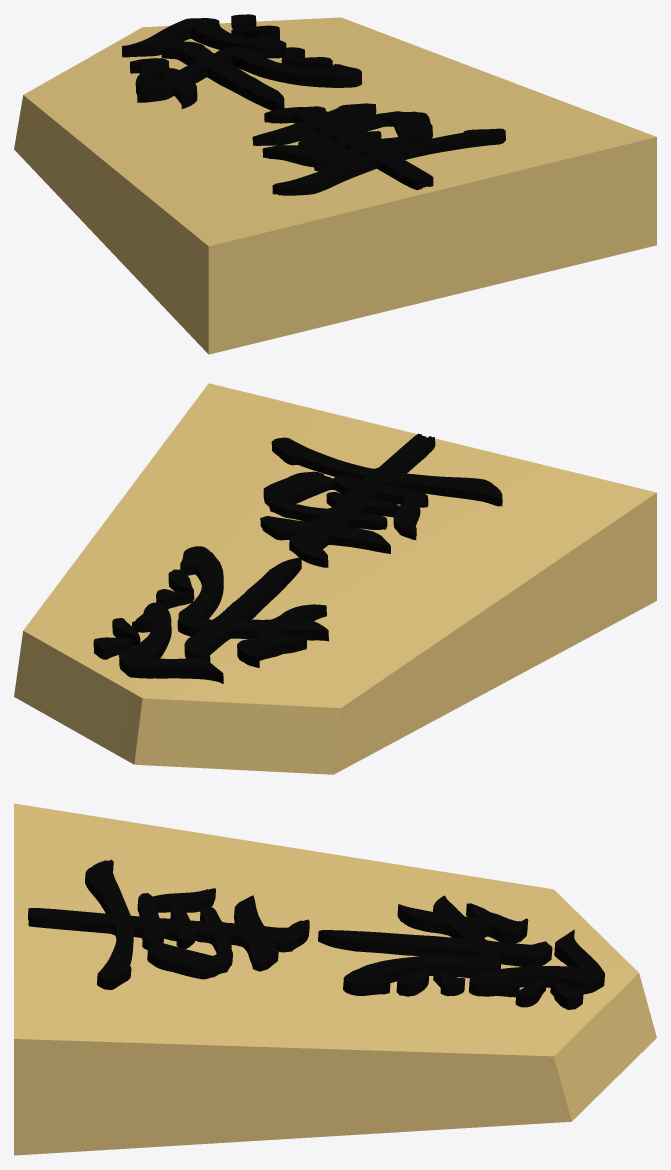
The model's file is Tour.fbx.
The picture shows the model from 3 angles, top to bottom: view 1: azimuth 30°, elevation 25°; view 2: azimuth 150°, elevation 25°; view 3: azimuth 270°, elevation 25°; orthographic projection. The views are drawn at different scales.
Parts seen in each view (by area): view 1: Tour; view 2: Tour; view 3: Tour.
Boxes of the visible parts, left/top/right/bottom form: Tour: left=14, top=14, right=656, bottom=354; Tour: left=14, top=383, right=656, bottom=774; Tour: left=14, top=803, right=656, bottom=1155.
Size of the model in its own units: 63.4 by 15.68 by 73.15.
